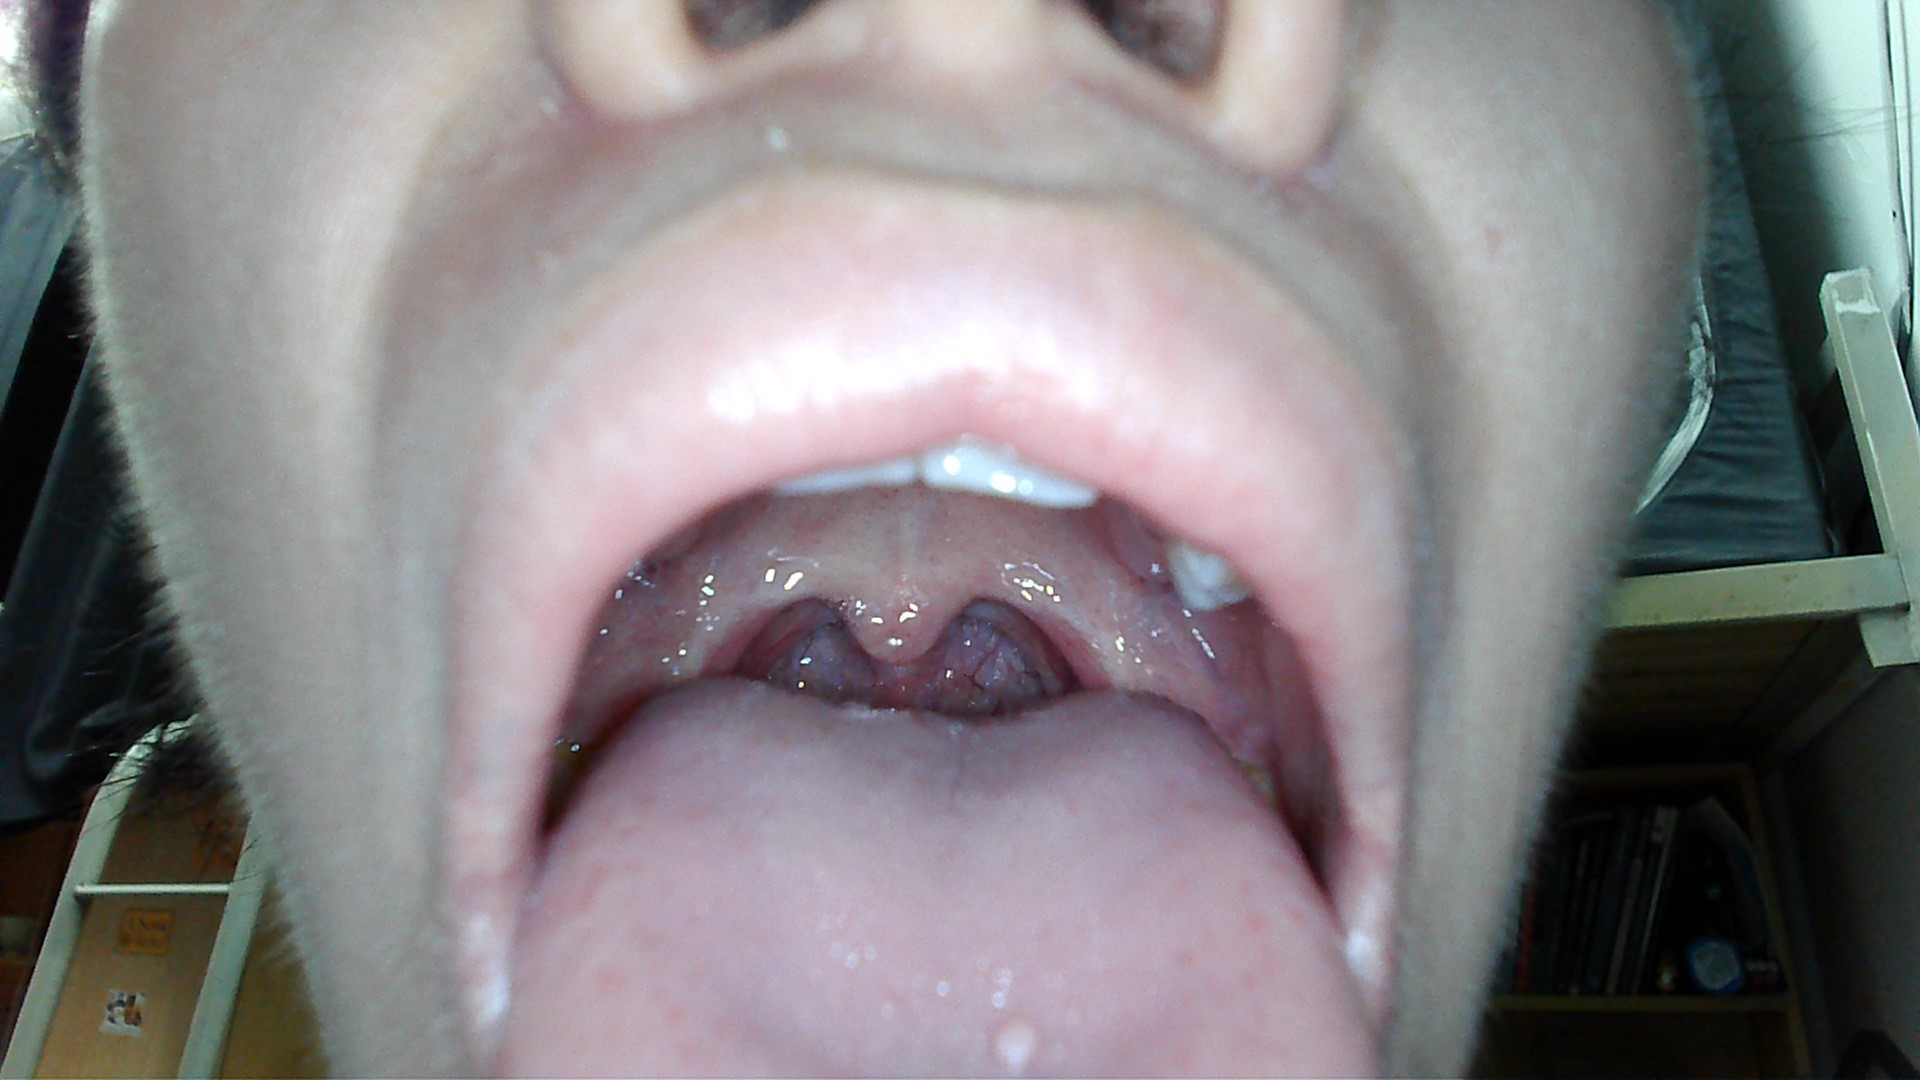throat: (1038, 588, 1126, 688), (674, 588, 770, 673)
